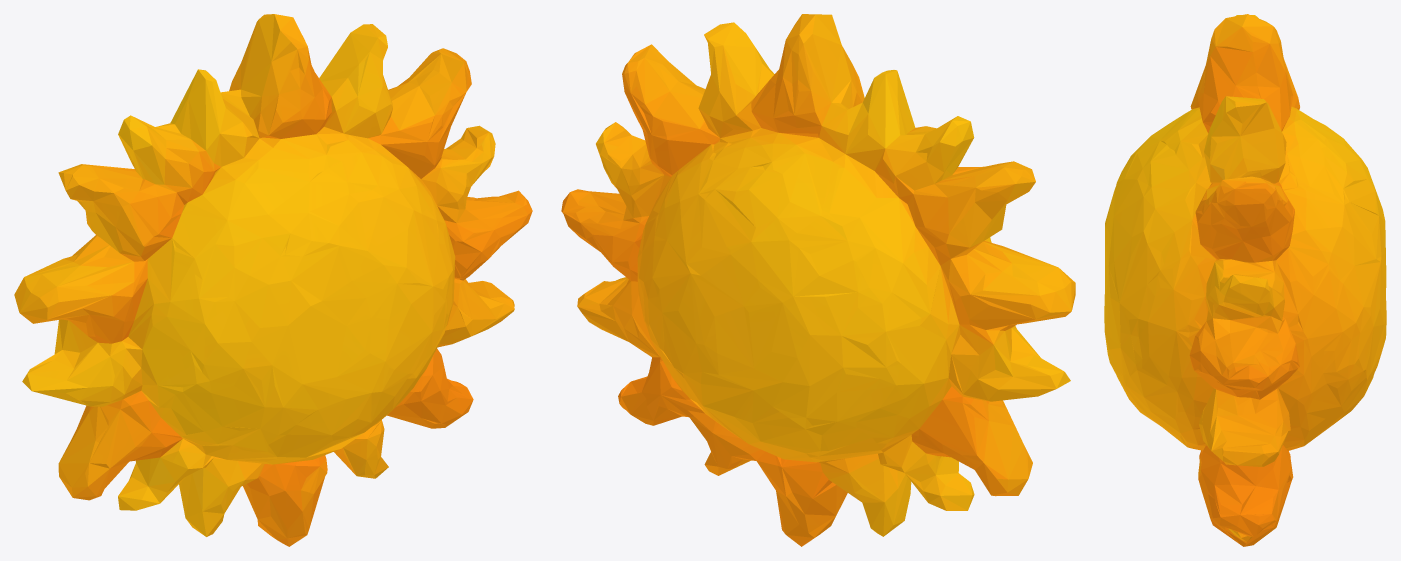
File: sun.glb
3 views of the same model, side by side, from view 1: azimuth 30°, elevation 25°; view 2: azimuth 150°, elevation 25°; view 3: azimuth 270°, elevation 25° (orthographic).
Parts seen in each view (by area): view 1: sun; view 2: sun; view 3: sun.
Boxes of the visible parts, <box> form: sun: <box>14,14,532,546</box>; sun: <box>561,14,1075,546</box>; sun: <box>1104,14,1386,546</box>.
Size of the model in its own units: 0.9829 by 0.9867 by 0.4803.
1 material, 1 textured.
